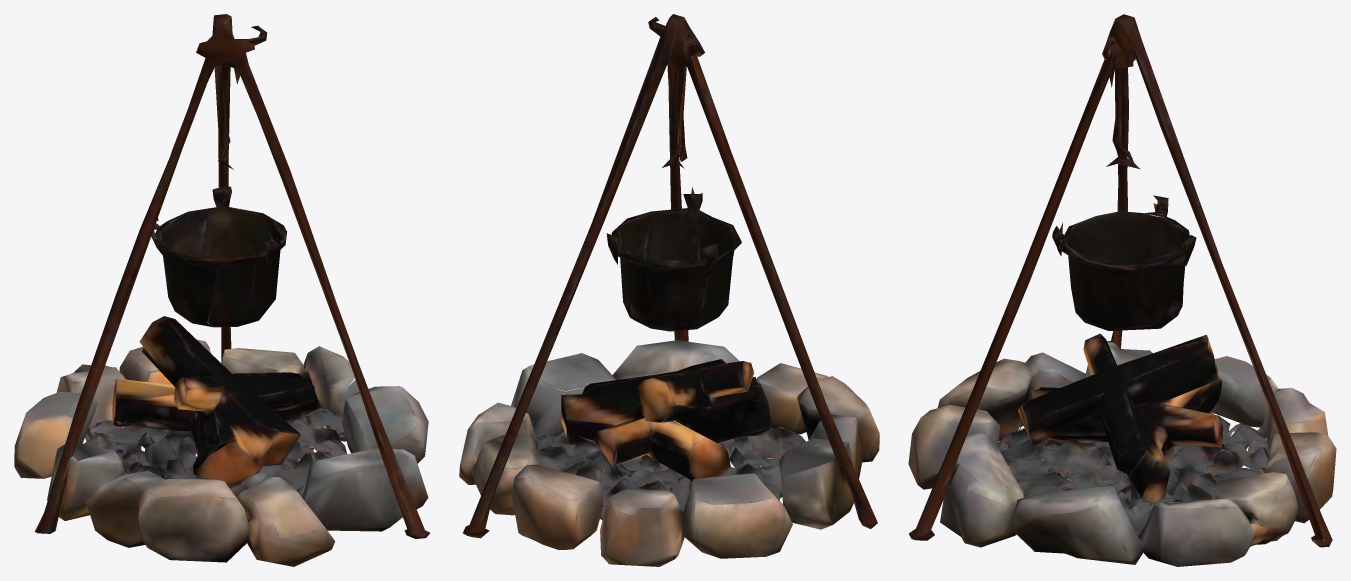
The model's file is fogon.movil.glb.
3 views of the same model, side by side, from view 1: azimuth 30°, elevation 25°; view 2: azimuth 150°, elevation 25°; view 3: azimuth 270°, elevation 25° (orthographic).
Parts seen in each view (by area): view 1: geometry_0; view 2: geometry_0; view 3: geometry_0.
Part boxes in pixels (x1,y1,x2,y2): geometry_0: (14, 14, 429, 566); geometry_0: (459, 14, 879, 566); geometry_0: (908, 14, 1336, 566).
Bounding box in the file's own units: 0.8917 × 1.1 × 0.8982.
Materials: 1 (1 with a texture image).
